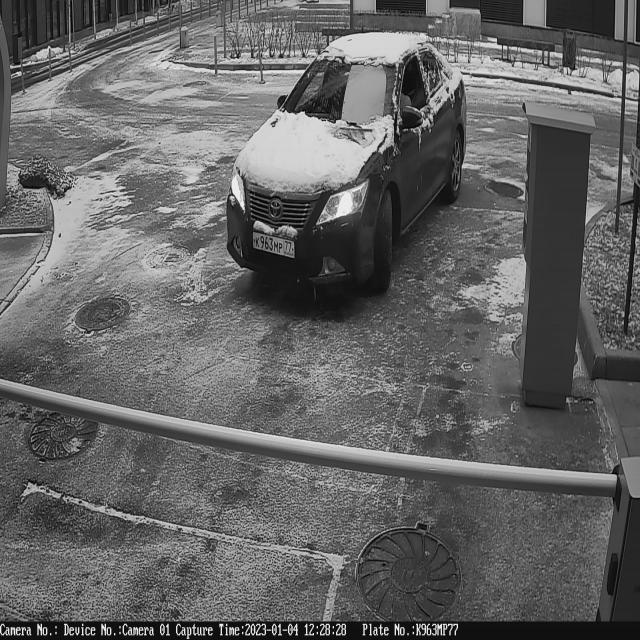car-plate-numbers: (251, 228, 297, 262)
